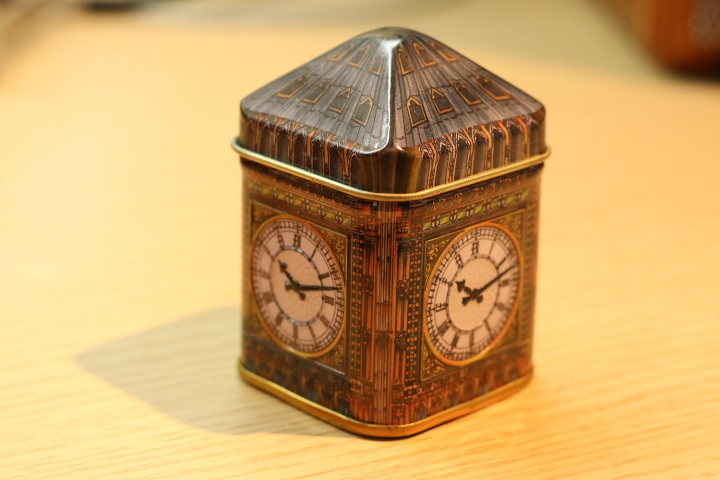Big Ben: (213, 19, 561, 452)
